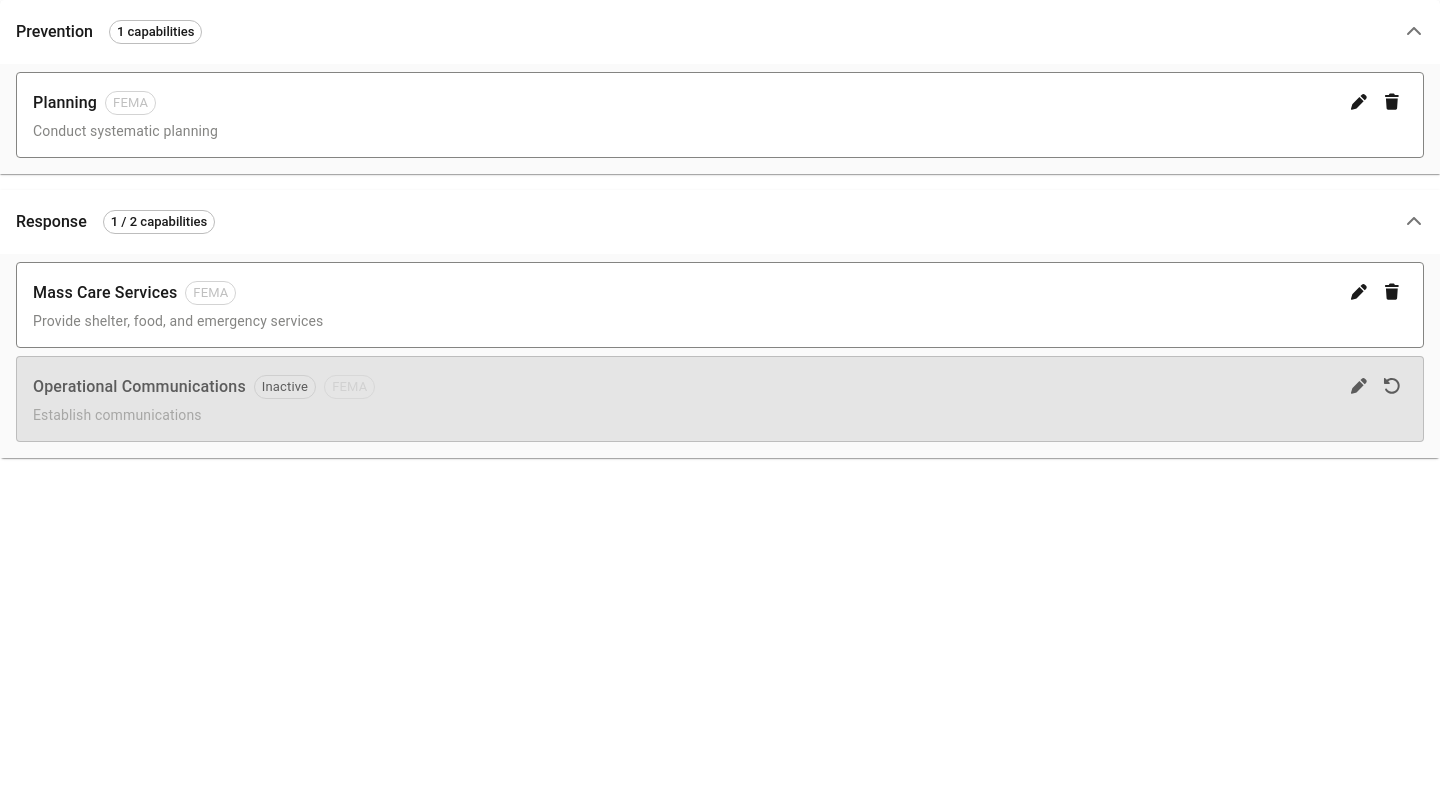
Test: CapabilityList › Deactivate action › closes dialog when cancel clicked
This screenshot has width=1440, height=810.
Click the 1st button named "deactivate capability" at (1392, 102), box [1377, 89, 1407, 115]
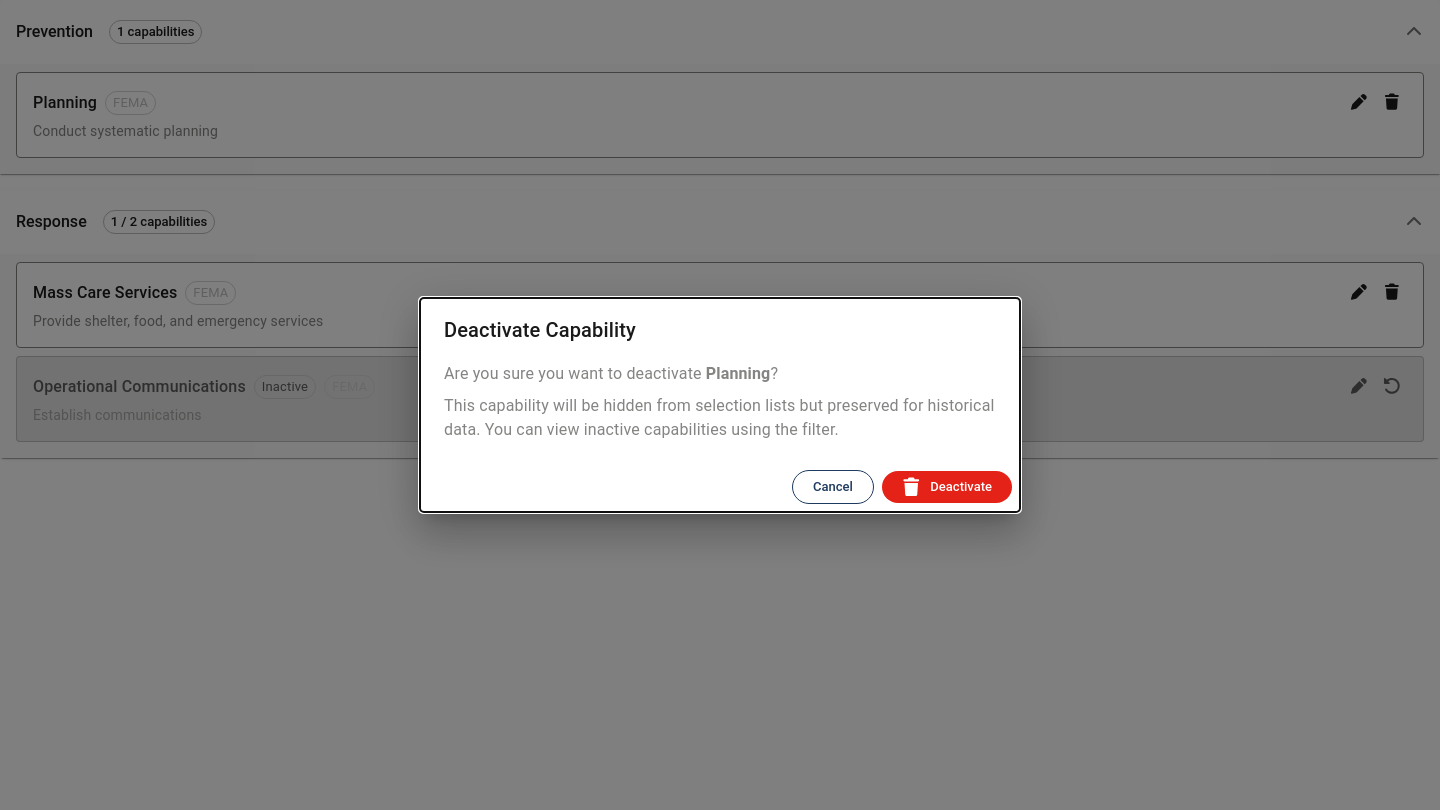
Click the button "Cancel" at (833, 487), box [792, 470, 874, 504]
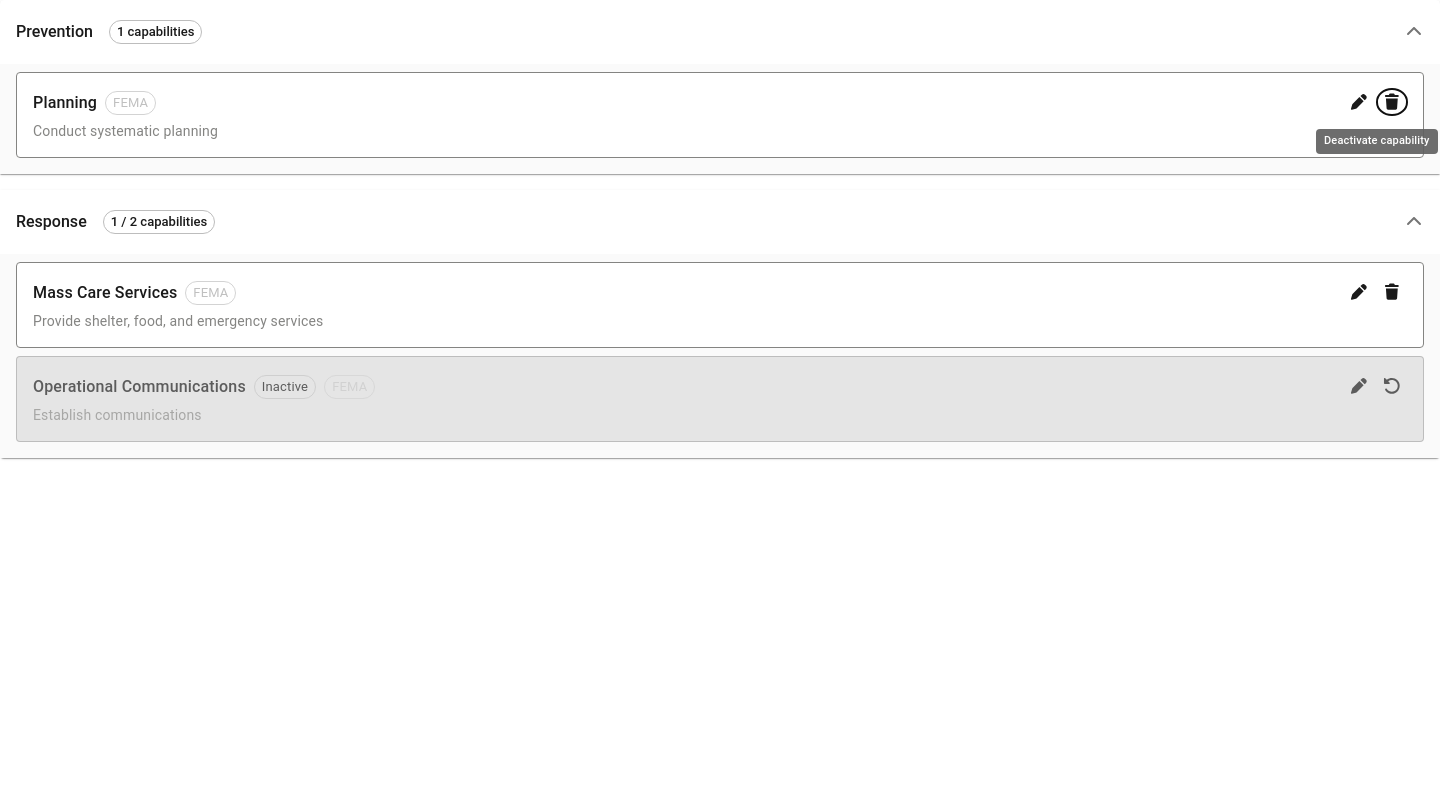
Check: the dialog is gone
